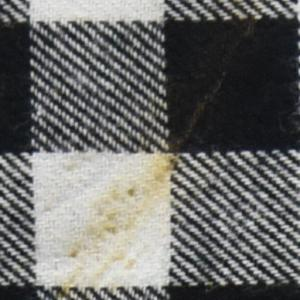Oil Stain: (47, 1, 276, 300)
